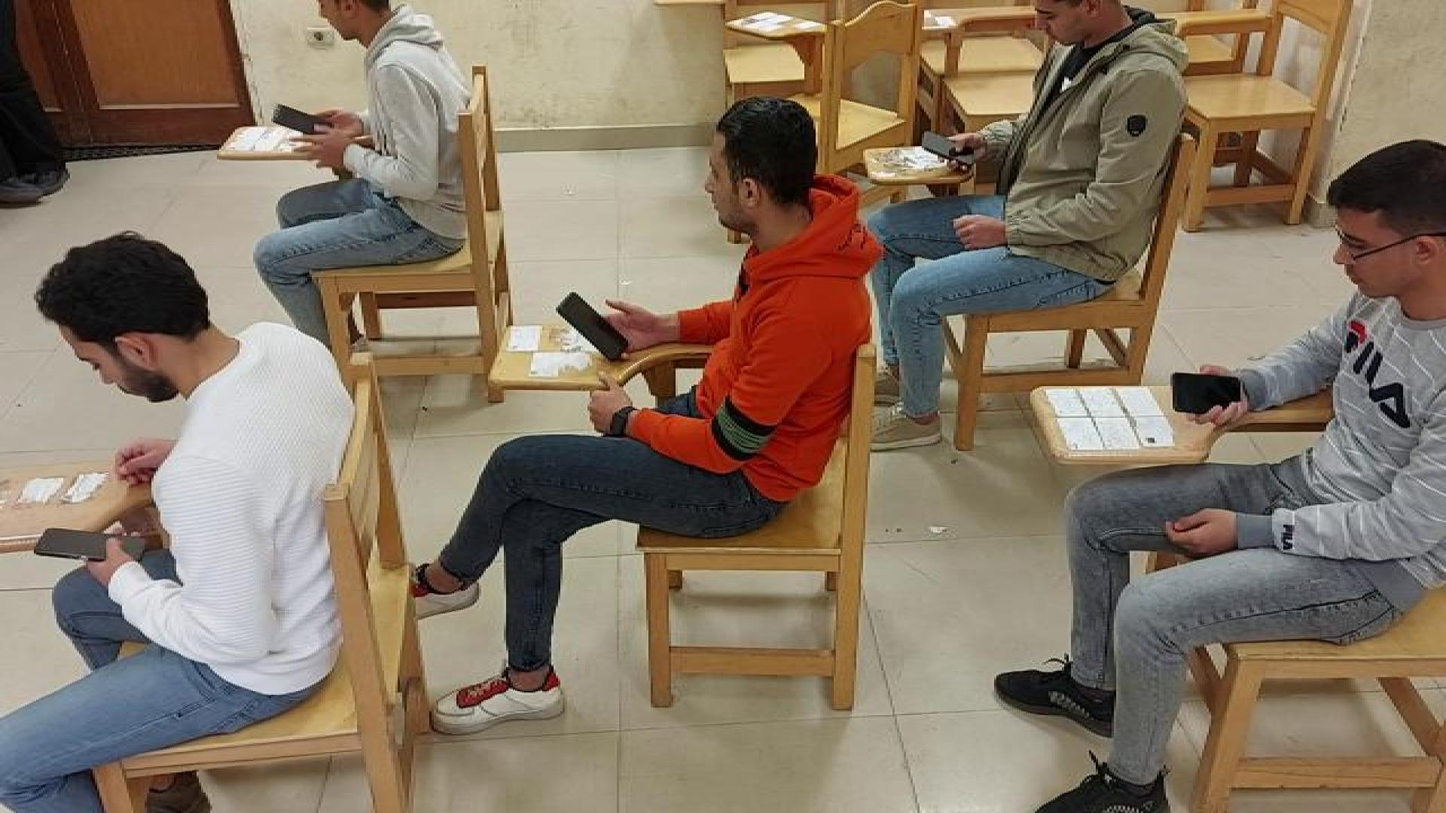phone: (554, 288, 633, 362), (29, 526, 149, 561), (1171, 374, 1246, 417), (268, 100, 340, 135), (920, 128, 978, 167)
